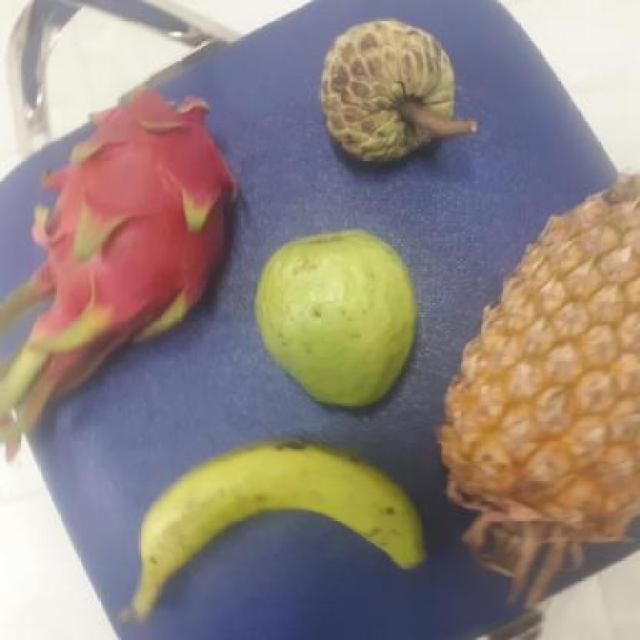banana: (119, 443, 413, 594)
dragon fruit: (40, 97, 242, 337)
guava: (243, 233, 419, 409)
sugar apple: (311, 18, 464, 167)
